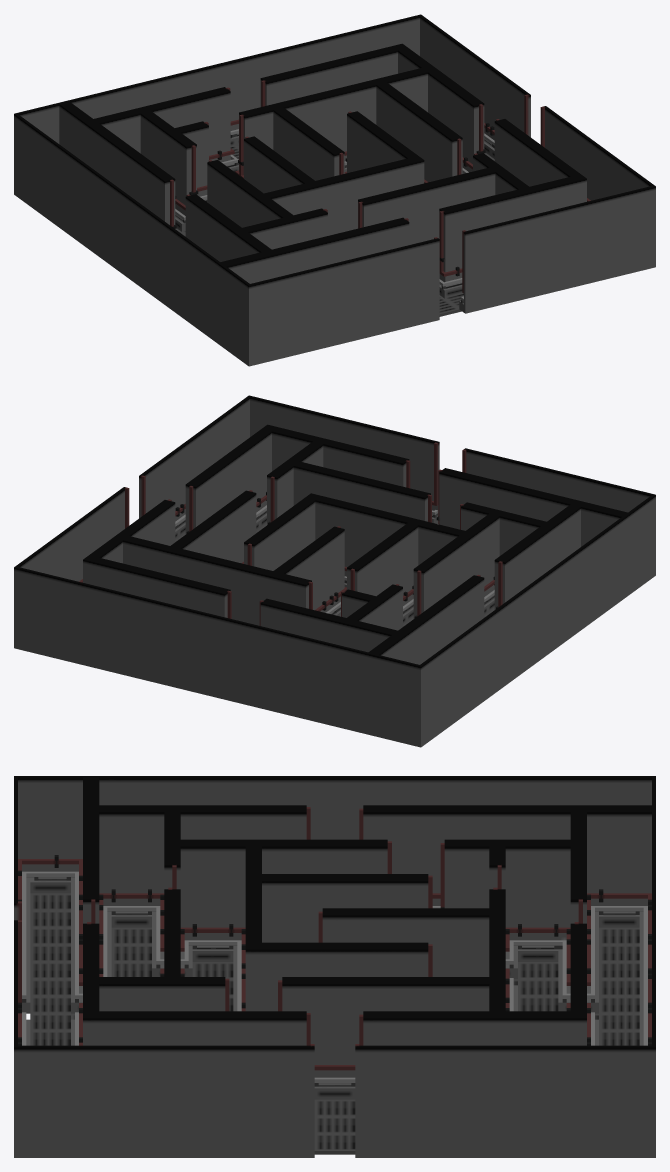
The model's file is Level02pt1.fbx.
The picture shows the model from 3 angles, top to bottom: view 1: azimuth 30°, elevation 25°; view 2: azimuth 150°, elevation 25°; view 3: azimuth 270°, elevation 25°; orthographic projection. The views are drawn at different scales.
Visible parts, largest first — view 1: Union; view 2: Union; view 3: Union.
Boxes of the visible parts, bbox=[...] form: Union: bbox=[14, 14, 655, 366]; Union: bbox=[14, 395, 655, 747]; Union: bbox=[14, 776, 655, 1157].
Bounding box in the file's own units: 158 × 31 × 158.
